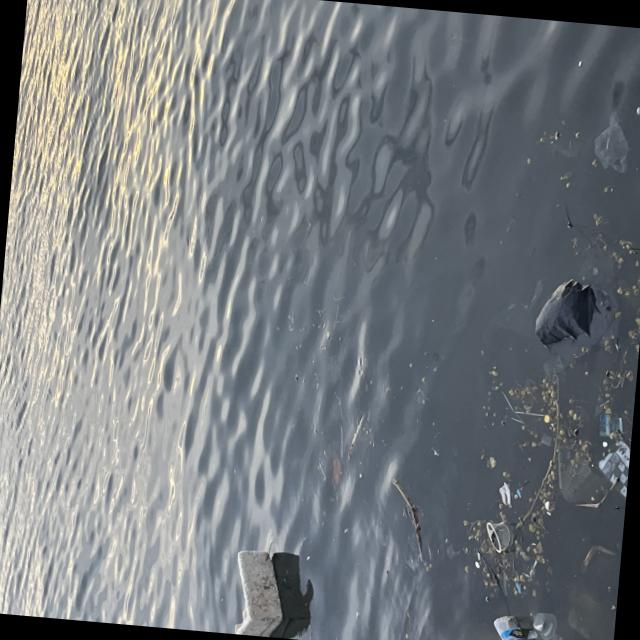foam: (231, 549, 287, 637)
plastic: (489, 612, 537, 640)
plastic bottle: (530, 278, 624, 388), (555, 442, 609, 508), (590, 111, 633, 176), (594, 440, 630, 500), (482, 518, 513, 554), (596, 409, 627, 438), (531, 610, 556, 640), (498, 481, 512, 506), (337, 426, 346, 456), (512, 581, 528, 594), (446, 543, 458, 558), (540, 432, 552, 446)
